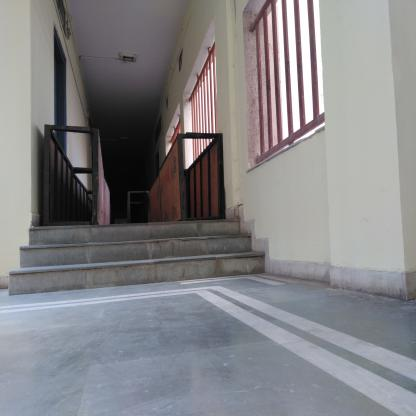stairs: (31, 219, 240, 296)
